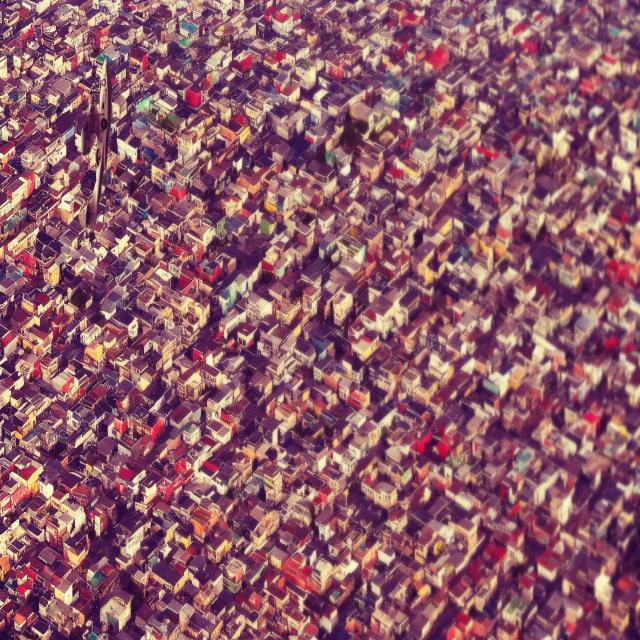airplane: (81, 58, 113, 228)
